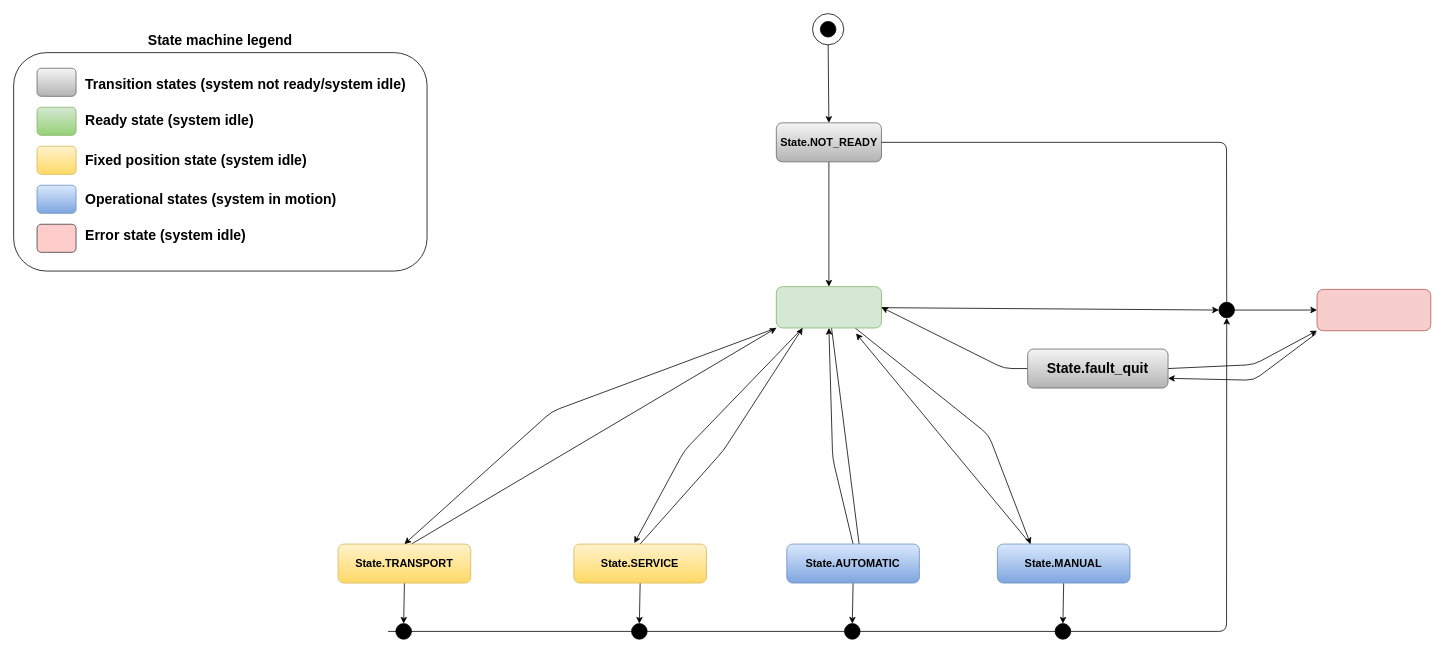
Some shapes in this 1445 by 653 pixel diagram are drawn without their labels. The box of each missing label's shape, as (x1, y1, x2, y2) in pixels:
State. FAULT: (1316, 289, 1431, 331)
State.R EADY: (776, 286, 881, 328)
